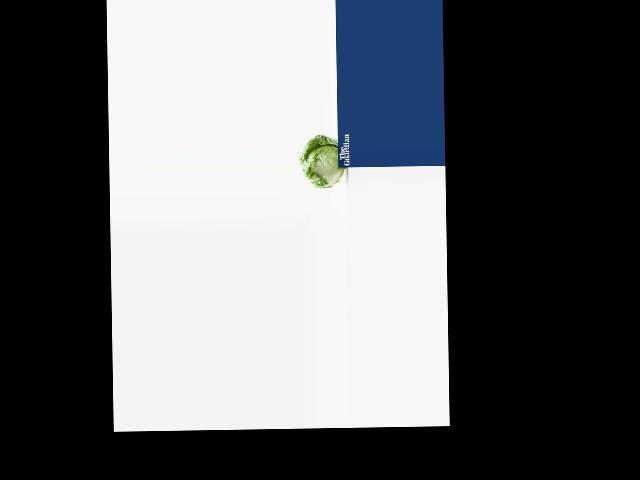lettuce: (296, 135, 344, 188)
